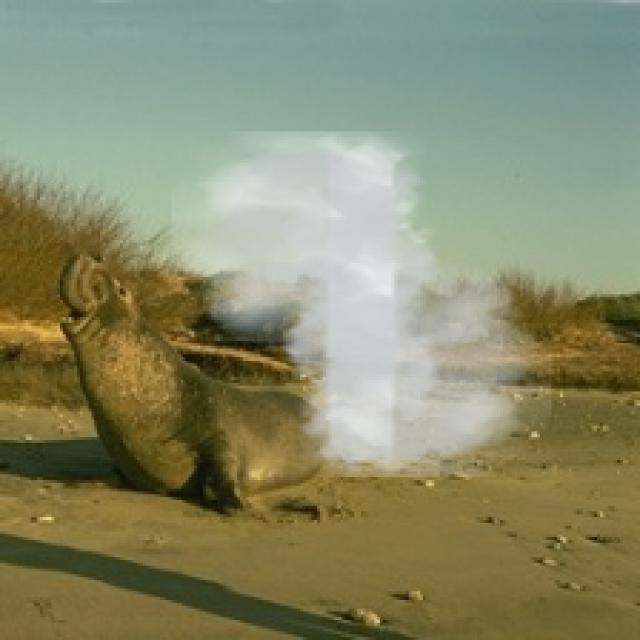Smoke: (172, 132, 552, 477)
